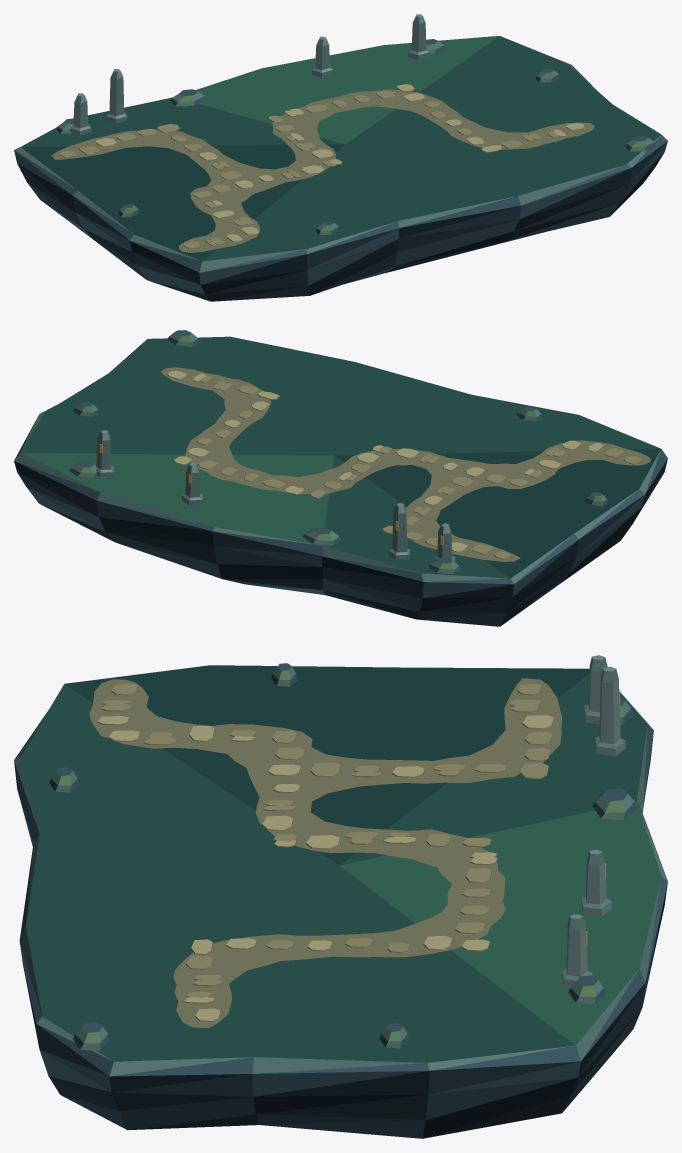
Rendered from world.glb.
3 renders of one model, top to bottom at view 1: azimuth 30°, elevation 25°; view 2: azimuth 150°, elevation 25°; view 3: azimuth 270°, elevation 25°, orthographic. The views are drawn at different scales.
Parts seen in each view (by area): view 1: Floating_cliff_strata; view 2: Floating_cliff_strata; view 3: Floating_cliff_strata.
Boxes of the visible parts, bbox=[...] form: Floating_cliff_strata: bbox=[14, 14, 667, 301]; Floating_cliff_strata: bbox=[14, 330, 667, 626]; Floating_cliff_strata: bbox=[14, 655, 667, 1138].
Size of the model in its own units: 34.88 by 7.91 by 23.77.
